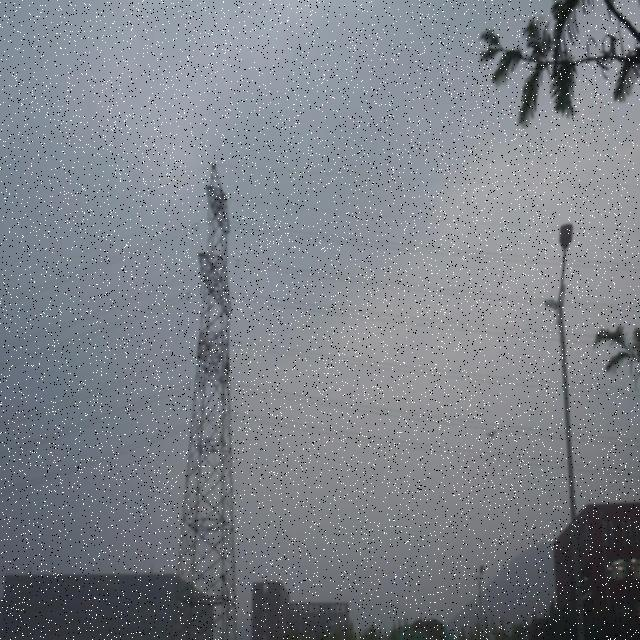UAV: (487, 430, 498, 439)
